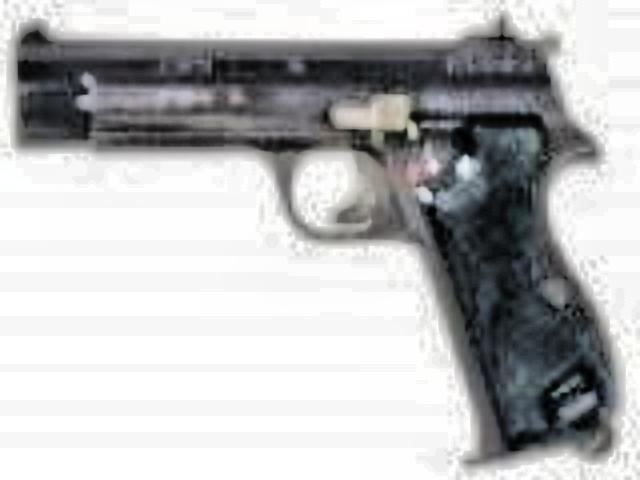pistol: (12, 24, 616, 460)
